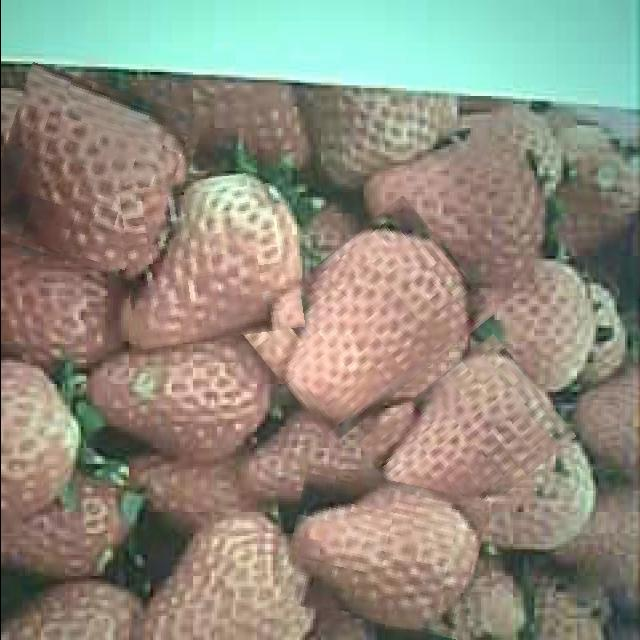strawberry: (248, 220, 484, 420), (0, 74, 194, 276), (366, 354, 564, 526), (284, 472, 482, 632), (119, 173, 298, 344)
